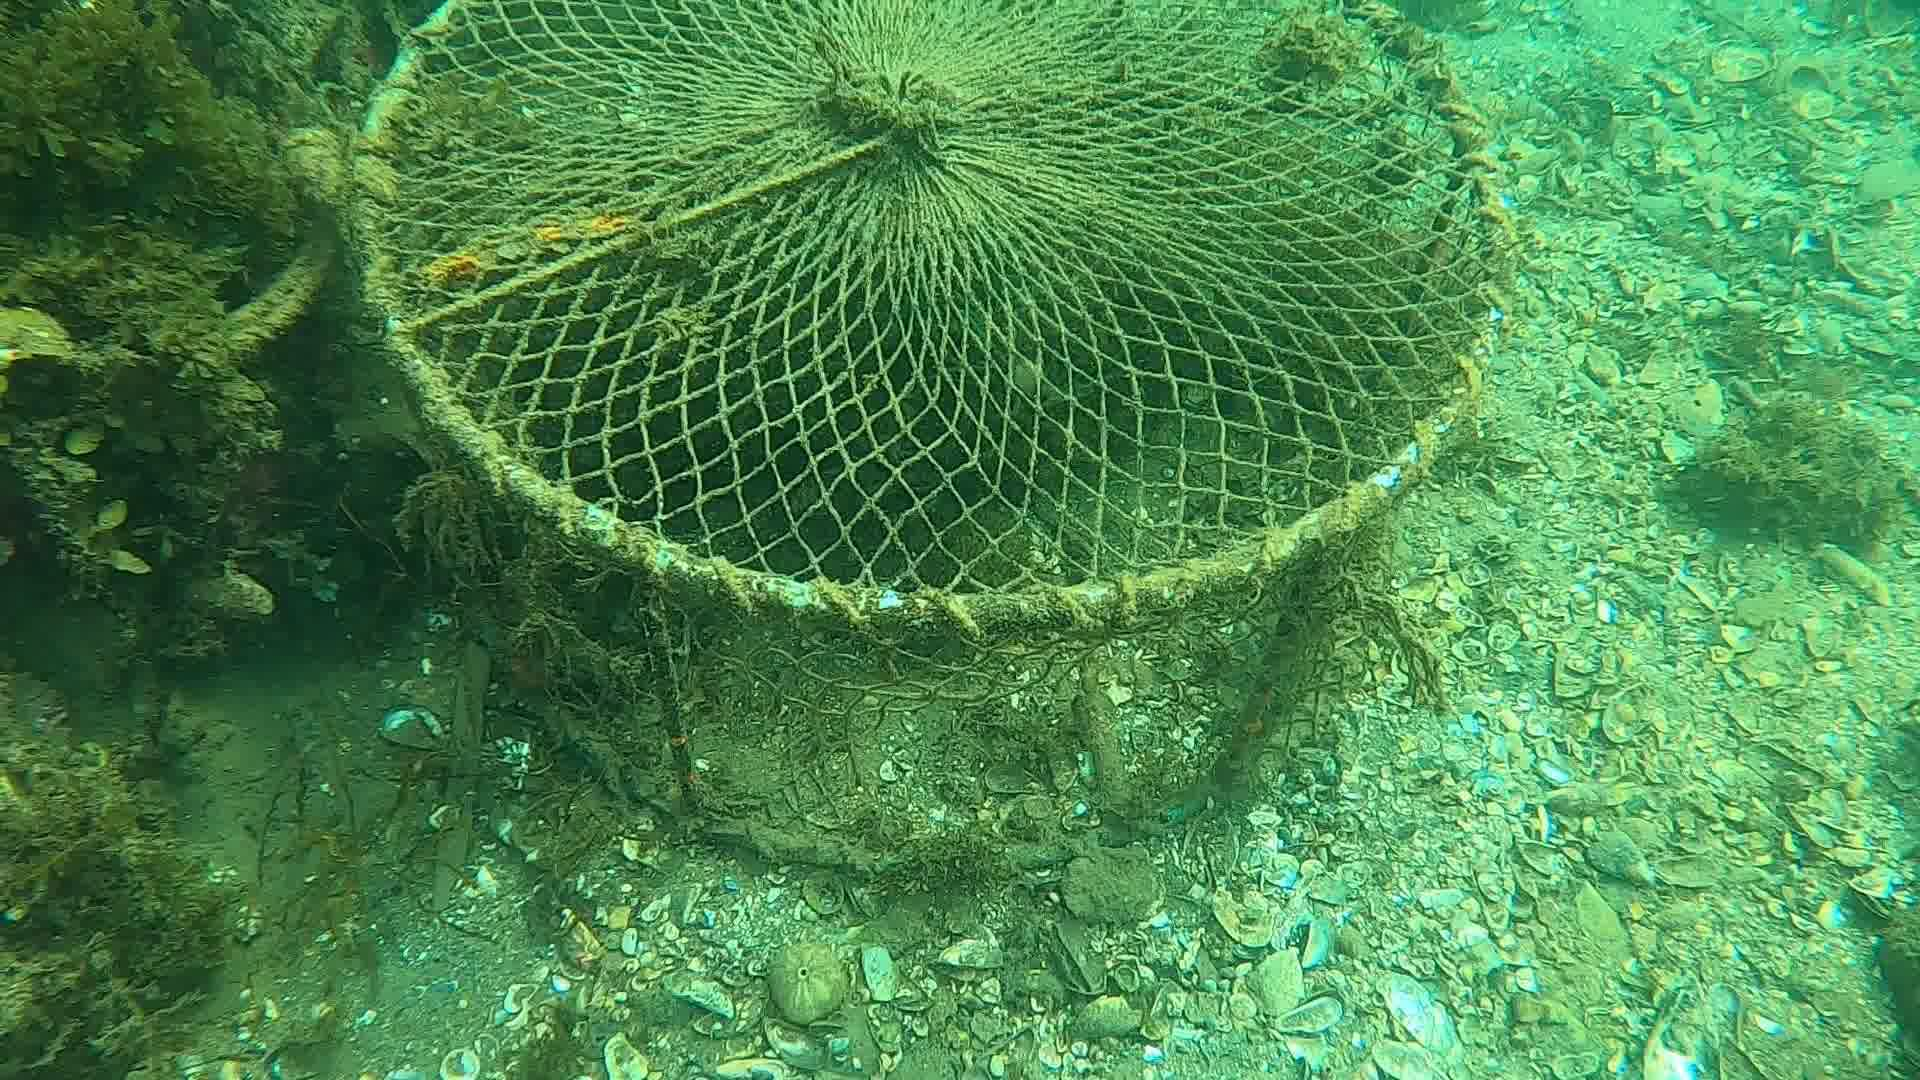circular fish trap: (342, 0, 1519, 880)
